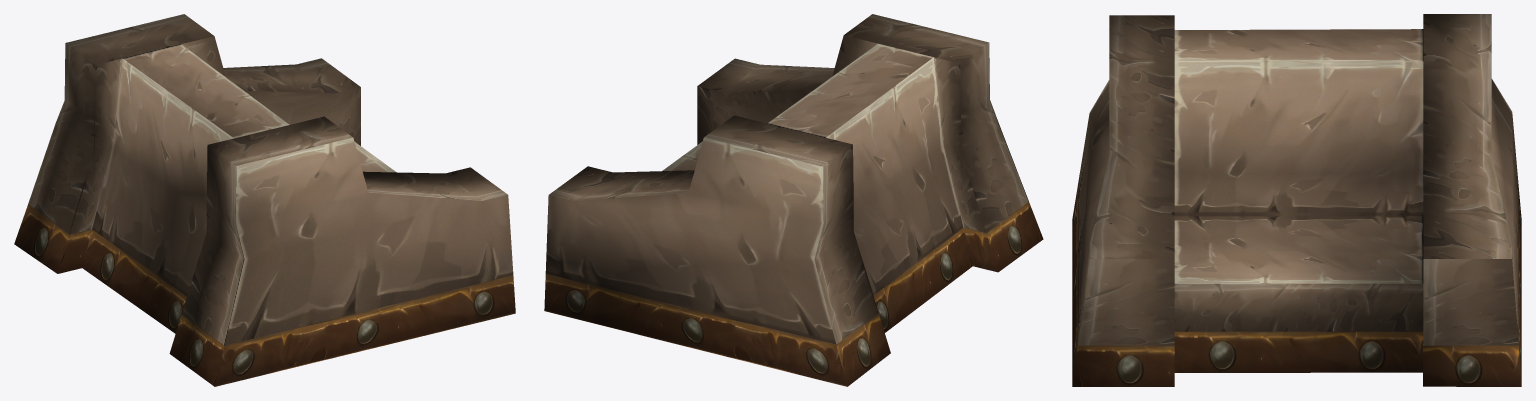
Rendered from dwarvenchair01.obj.
3 renders of one model, left to right at view 1: azimuth 30°, elevation 25°; view 2: azimuth 150°, elevation 25°; view 3: azimuth 270°, elevation 25°, orthographic. The views are drawn at different scales.
Parts seen in each view (by area): view 1: dwarvenchair01; view 2: dwarvenchair01; view 3: dwarvenchair01.
Part boxes in pixels (bbox=[...]): dwarvenchair01: bbox=[14, 14, 515, 386]; dwarvenchair01: bbox=[544, 14, 1043, 386]; dwarvenchair01: bbox=[1072, 14, 1521, 386].
Size of the model in its own units: 1.67 by 1.06 by 1.9.
Materials: 1 (1 with a texture image).
